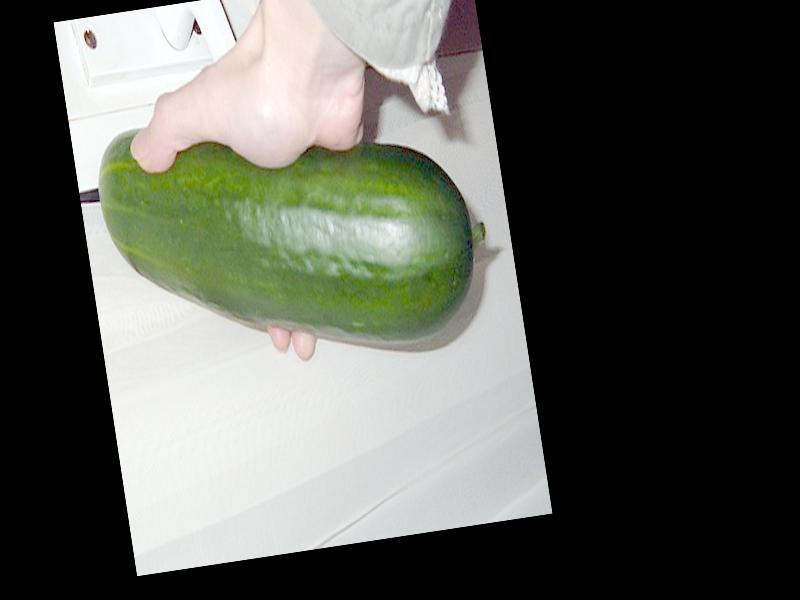Cucumber: (90, 81, 502, 394)
